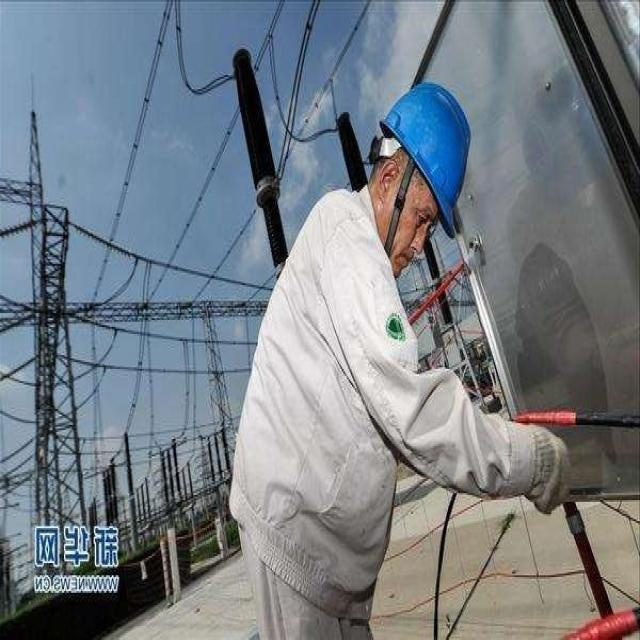Con_Casco: (376, 85, 470, 267)
